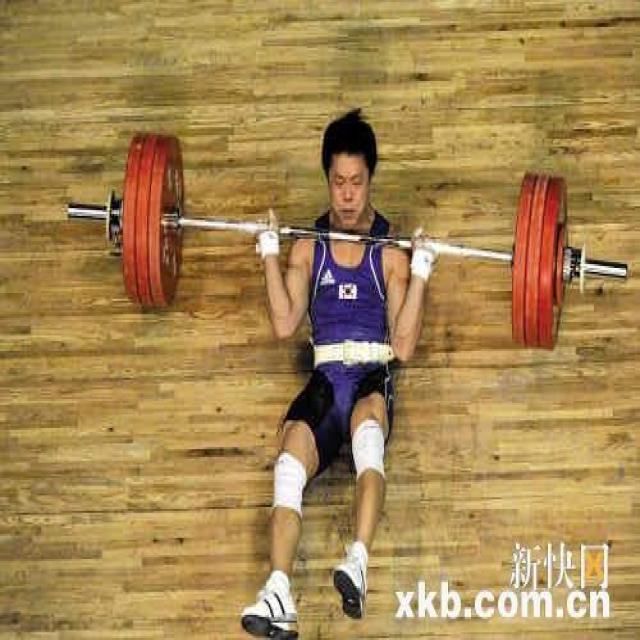down: (237, 100, 439, 638)
